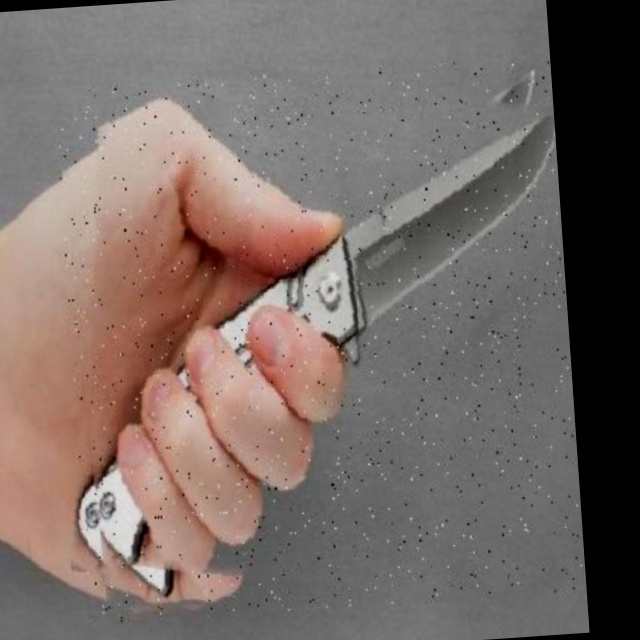Sharp-Object: (54, 56, 585, 624)
